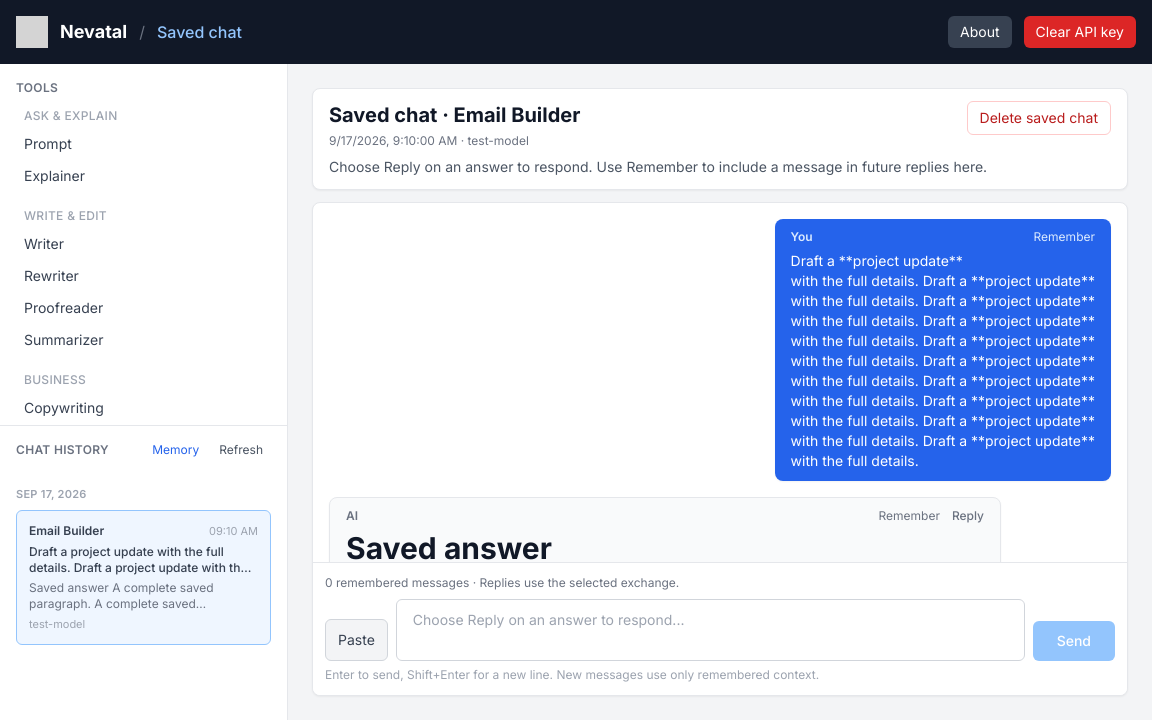
saved history and memory flows › requires a selected Reply and sends that full exchange, then cancels the target
The image size is (1152, 720).
Expected: the heading "Saved chat · Email Builder" is shown, [329,101,580,129]
Type "Make it shorter" into the text box at (710, 630), box [396,599,1025,661]
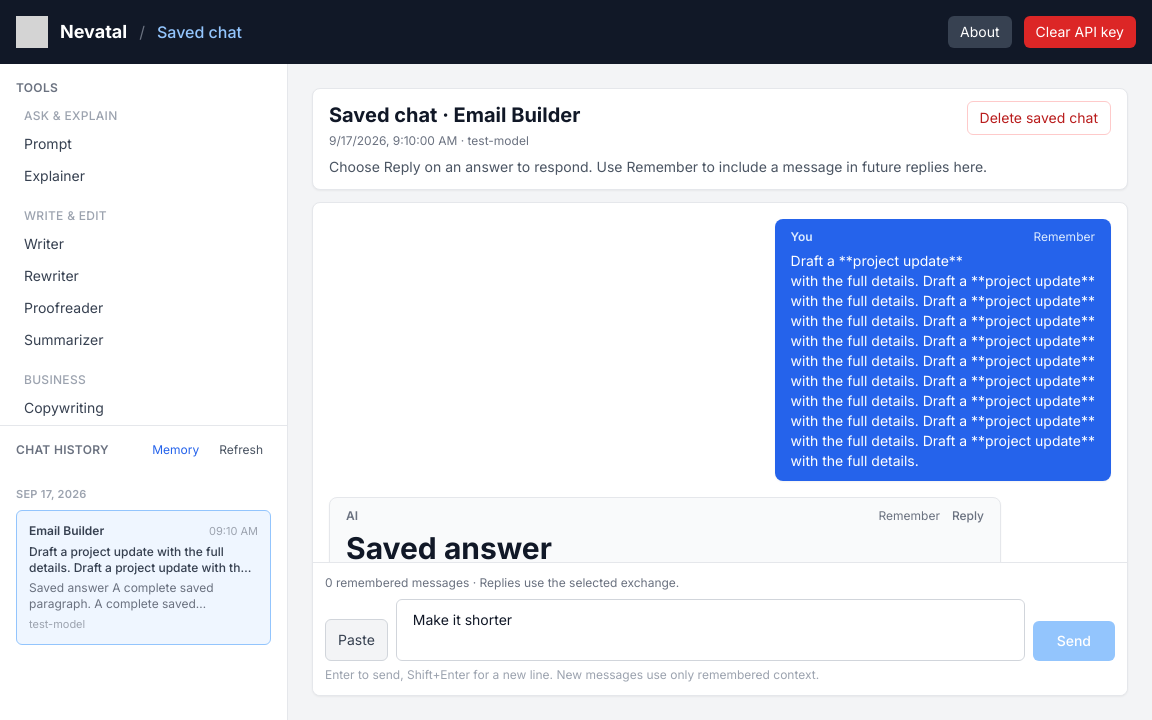
Expected: the button "Send" is disabled, [1033,621,1115,661]
Click the button with aria-label "Reply to message" at (968, 516), box [952,508,984,524]
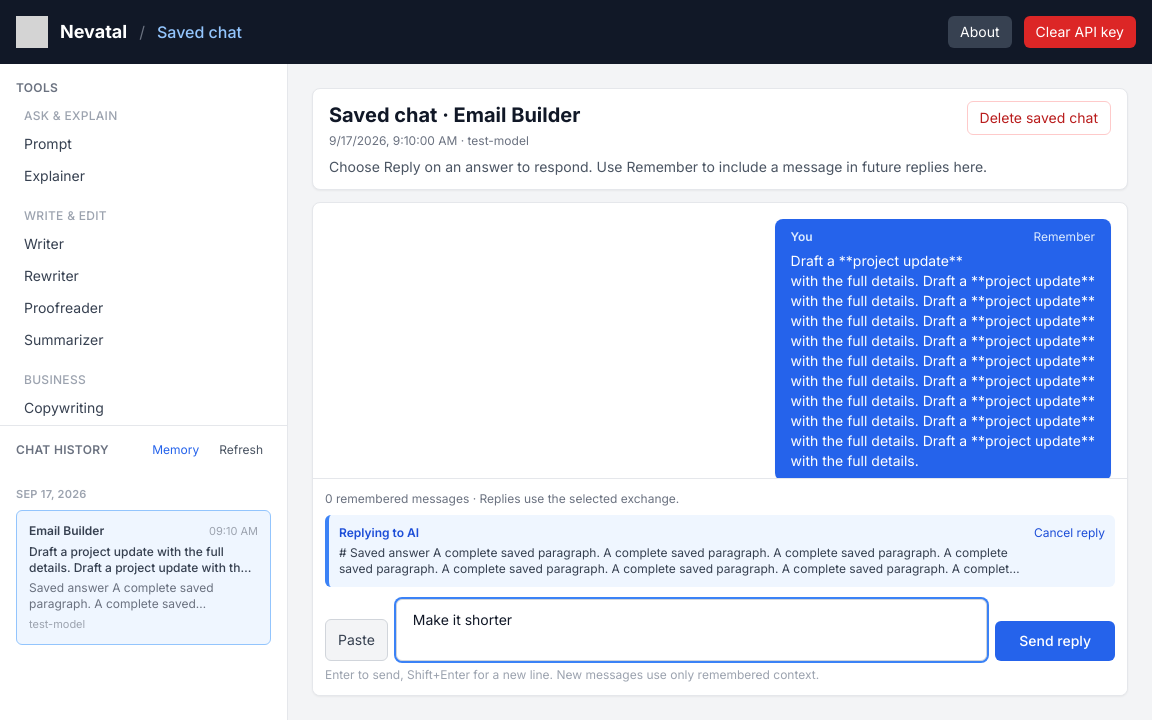
Click the button "Send reply" at (1055, 641), box [995,621,1115,661]
(page scrolled)
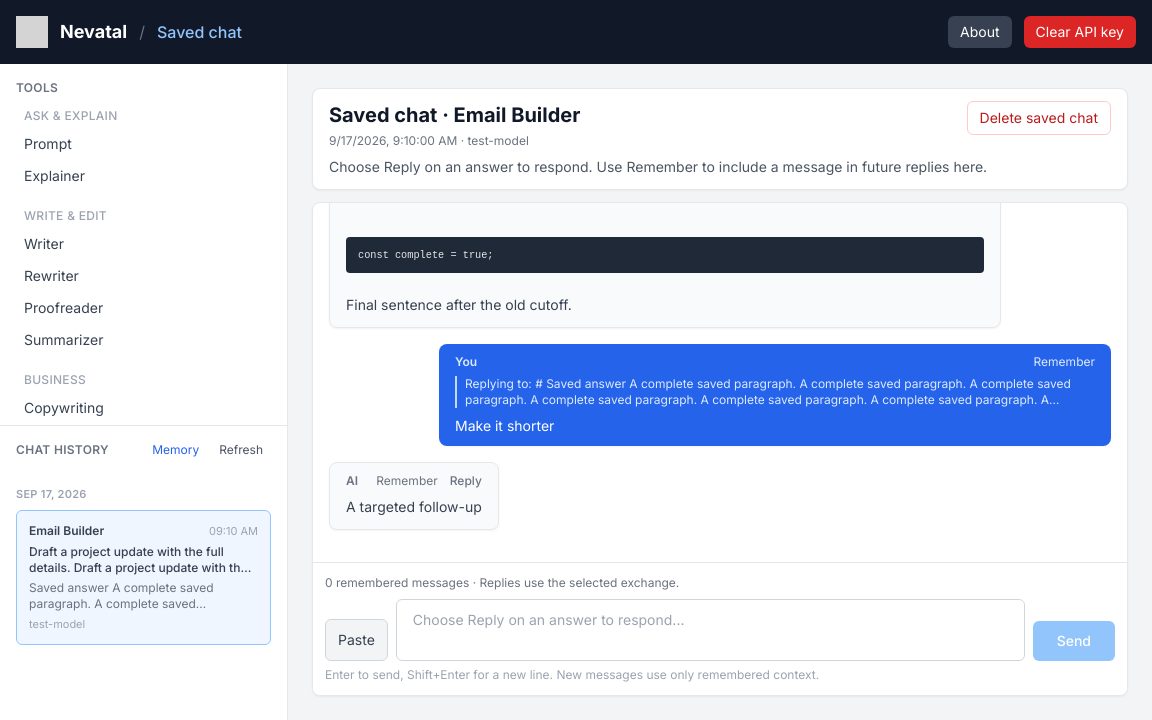
Result: the text "A targeted follow-up" is shown at [346,495,482,519]
Result: the text "Replying to AI" is gone
